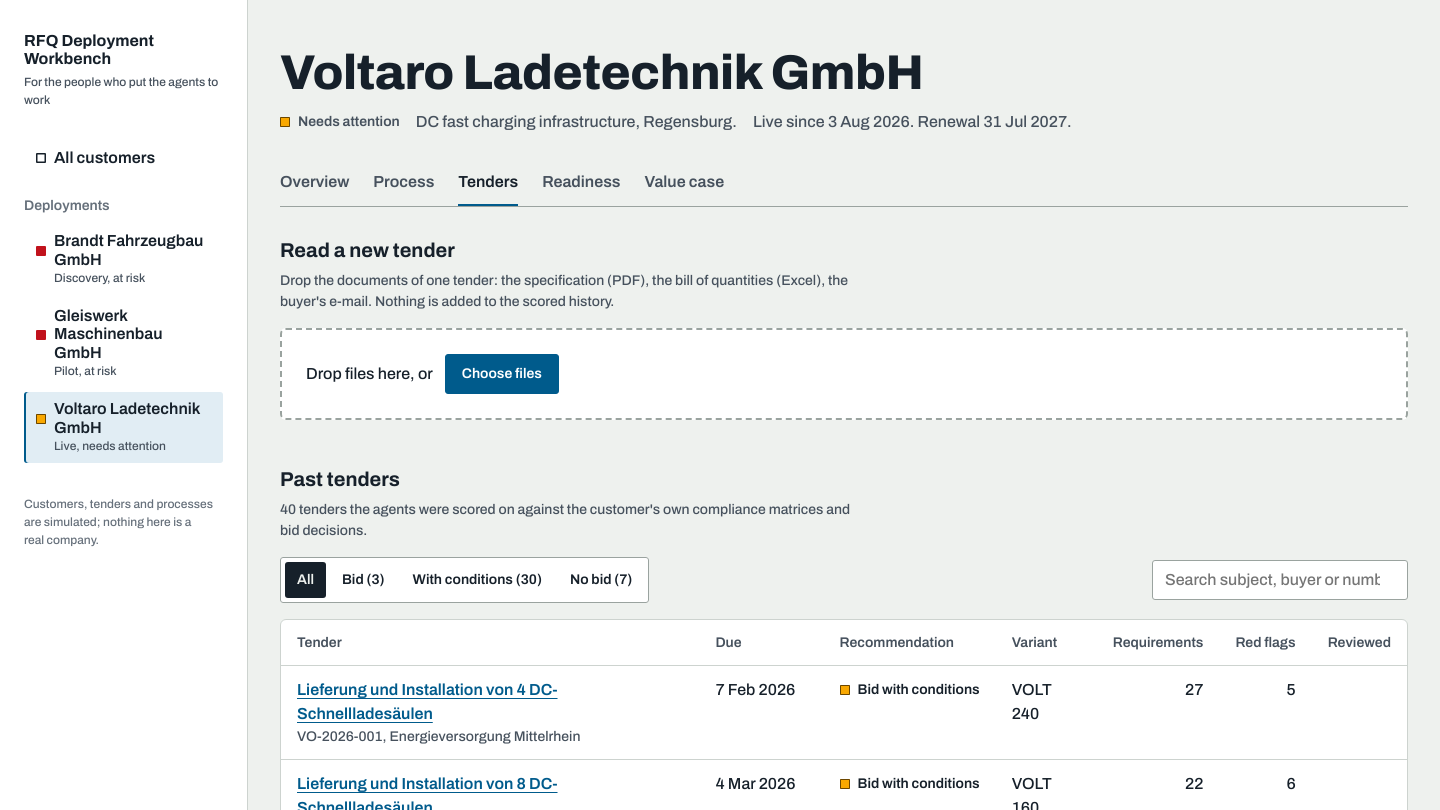
Scenario: tenders › filters by recommendation and search, and offers a way back from nothing
Click the radio button labelled "No bid (7)" at [601, 580], box x1=570 y1=572 x2=632 y2=587
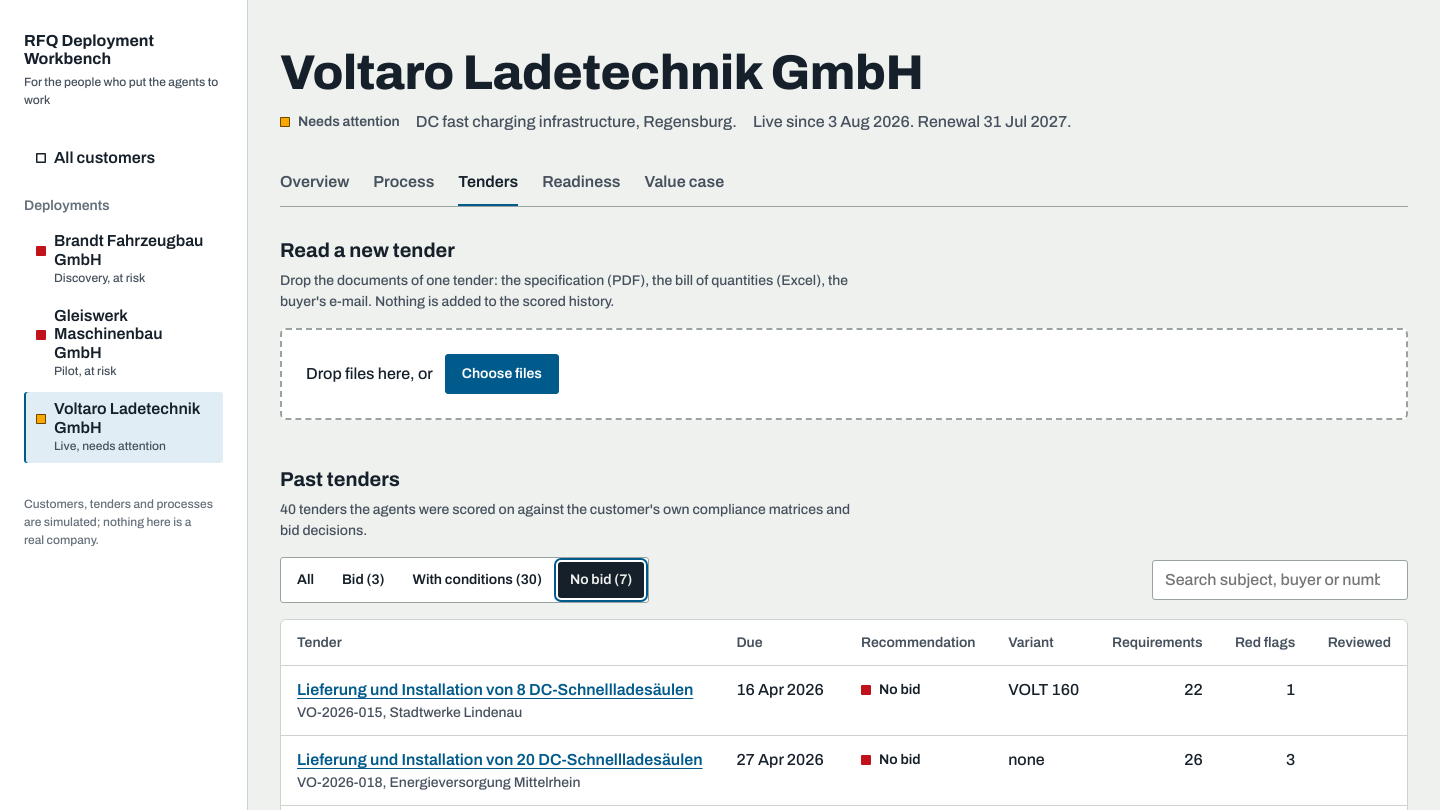
Expected: the number of rows is 8
Type "zzzz" into the search field named "Search tenders" at [1280, 580], box x1=1152 y1=560 x2=1408 y2=600
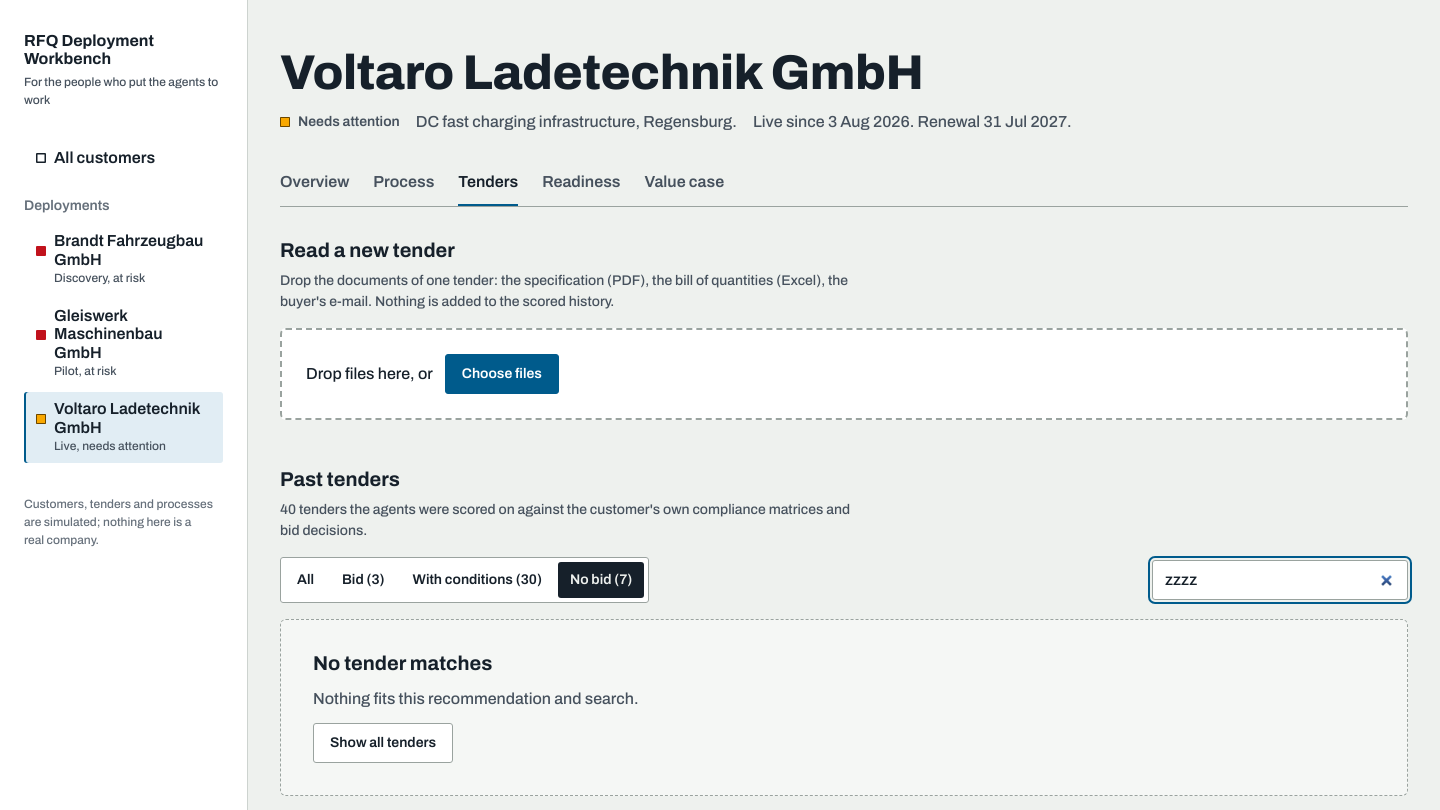
Expected: the heading "No tender matches" is shown, x1=313 y1=652 x2=492 y2=675
Click the button "Show all tenders" at [383, 743], box x1=313 y1=723 x2=453 y2=763
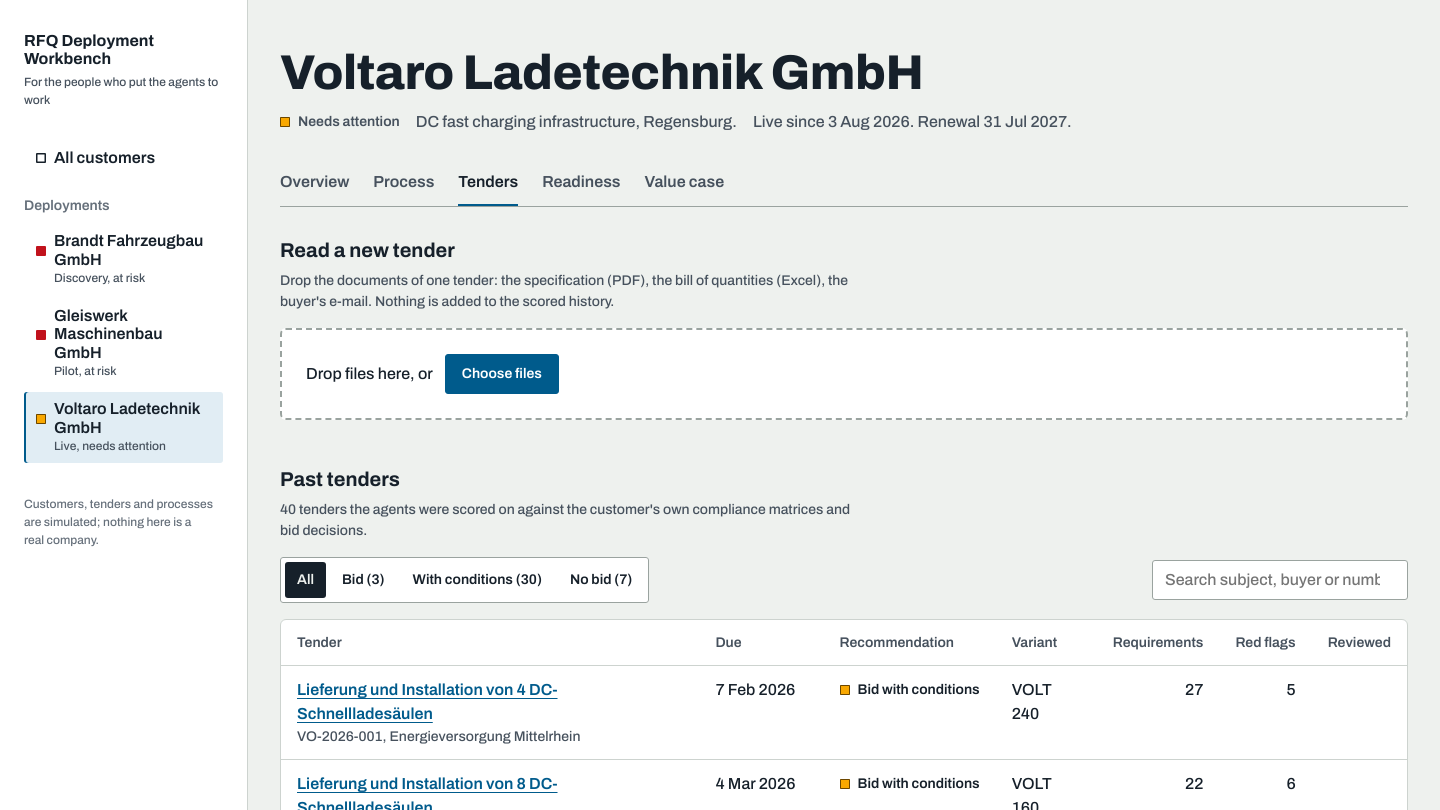
Expected: the number of rows is 41
